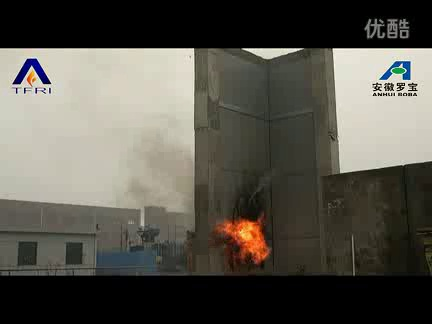fire: (210, 212, 276, 273)
